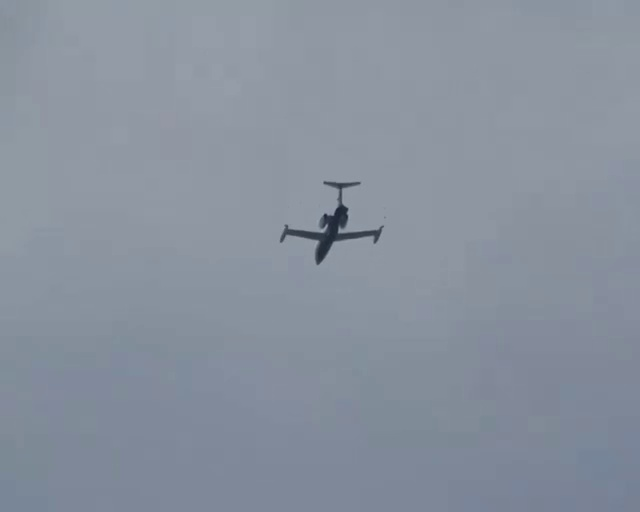AIRPLANE: (280, 179, 386, 265)
